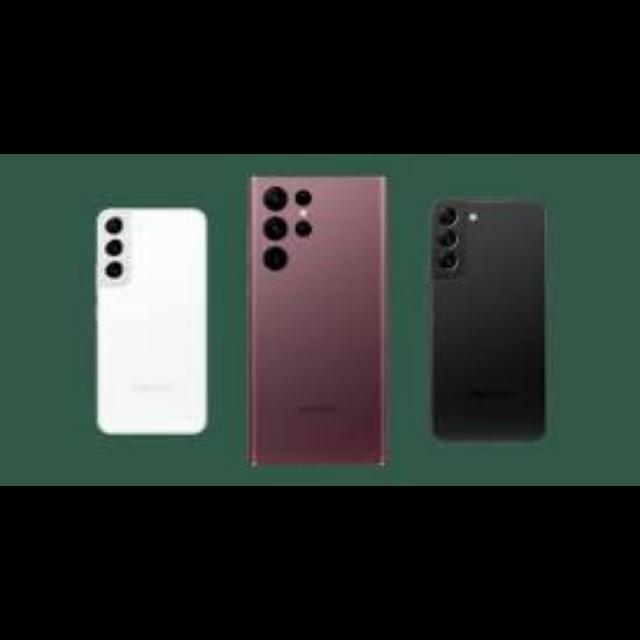Phone: (247, 172, 391, 472), (428, 198, 550, 447), (94, 207, 208, 437)
